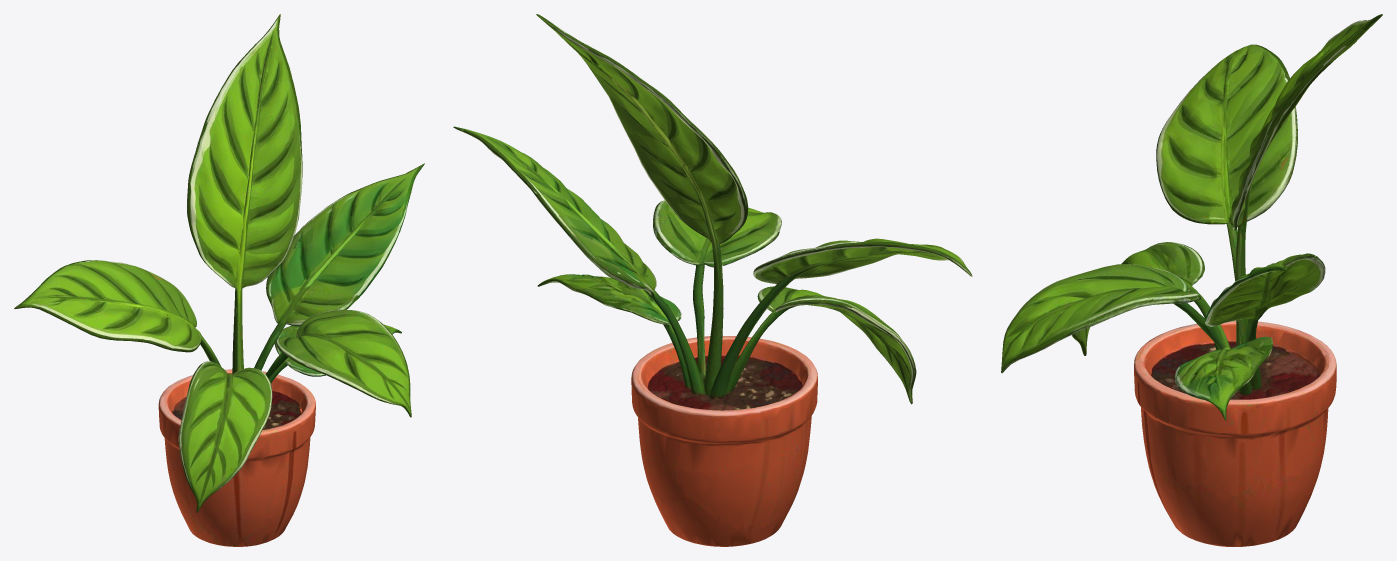
File: plant.glb
3 views of the same model, side by side, from view 1: azimuth 30°, elevation 25°; view 2: azimuth 150°, elevation 25°; view 3: azimuth 270°, elevation 25° (orthographic). The views are drawn at different scales.
Bounding box in the file's own units: 1.89 × 1.9 × 1.15.
1 material, 1 textured.
